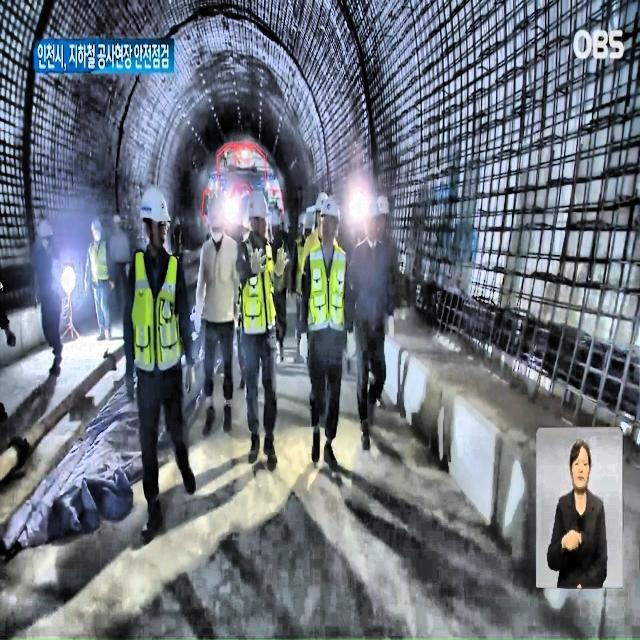safety_helmet: (139, 184, 173, 220), (362, 185, 391, 213), (246, 194, 271, 221), (204, 204, 230, 229), (320, 196, 346, 217), (34, 213, 55, 238), (305, 208, 316, 233), (91, 211, 103, 231)
safety_jacket: (128, 238, 184, 371), (306, 246, 356, 348), (240, 233, 286, 339), (83, 242, 113, 289)
